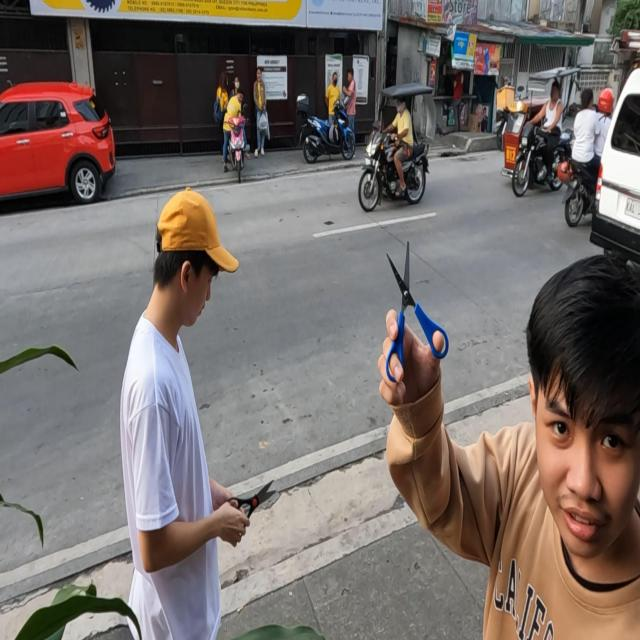scissor: (384, 243, 448, 383), (228, 474, 279, 533)
